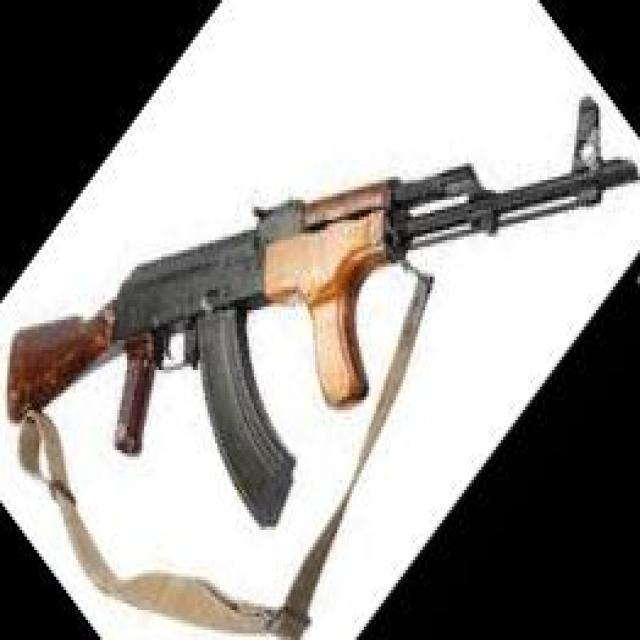Rifle: (6, 95, 640, 529)
